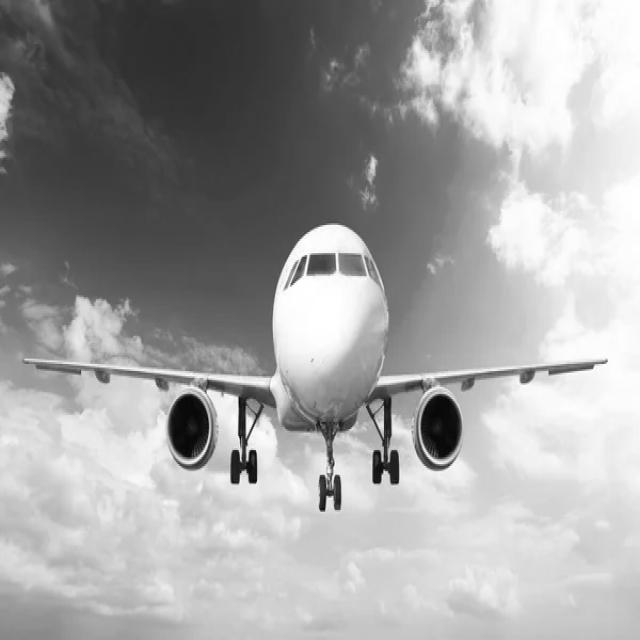Aircraft: (22, 222, 616, 516)
